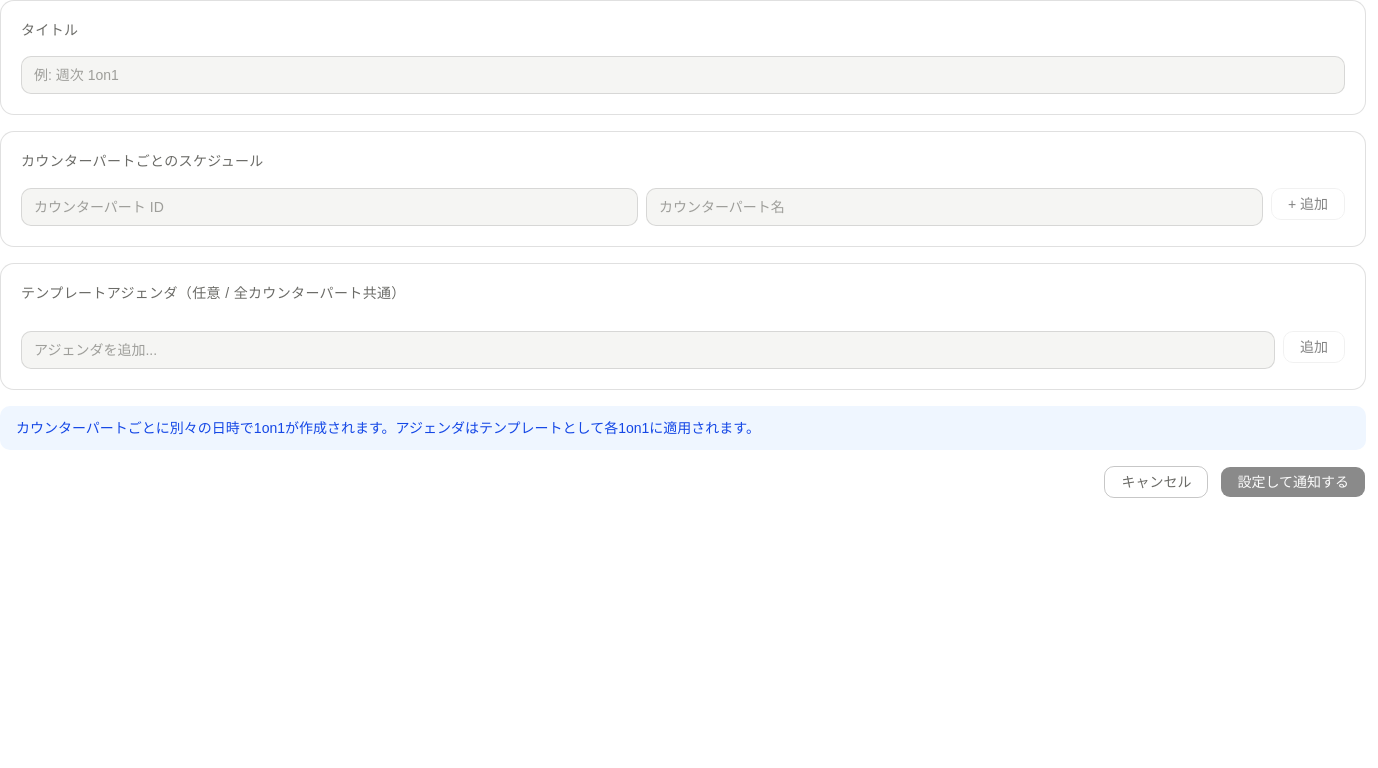
Test: ScheduleGroupForm › allows removing a counterpart
This screenshot has width=1378, height=768.
// Add a counterpart first
Type "user-123" into the field with placeholder "カウンターパート ID".
click(330, 206); type("user-123")  # box [21,188,638,226]
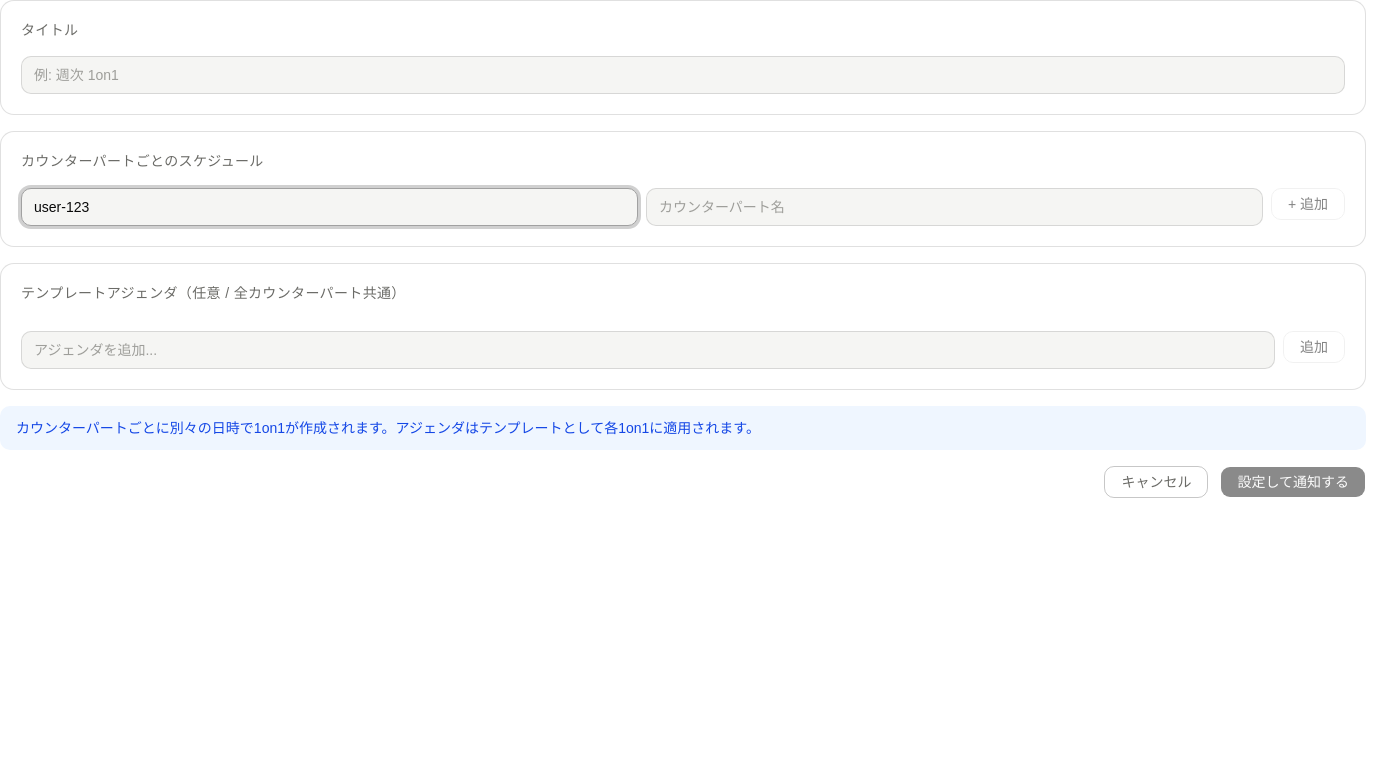
Type "田中 太郎" into the field with placeholder "カウンターパート名".
click(954, 206); type("田中 太郎")  # box [646,188,1263,226]
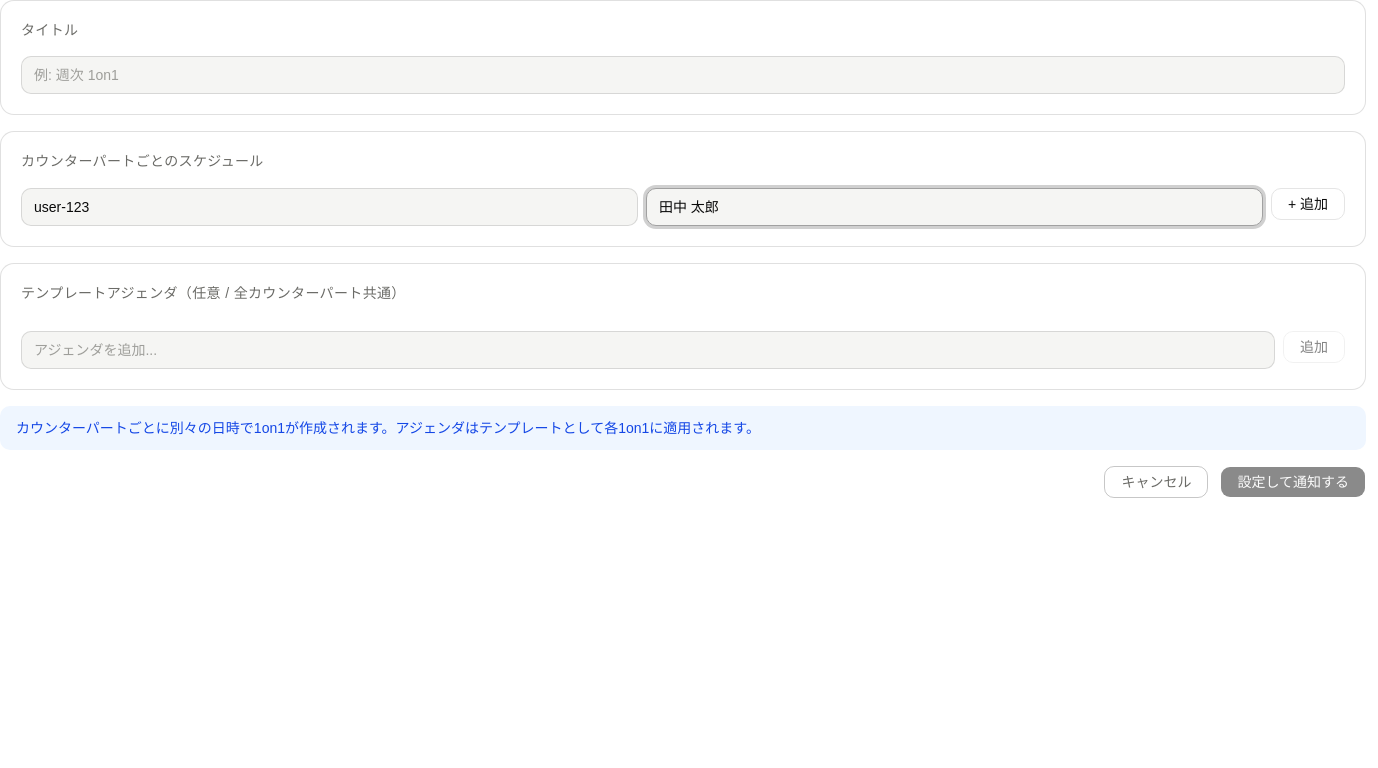
Click the button "+ 追加".
click(1308, 204)  # box [1271,188,1345,220]
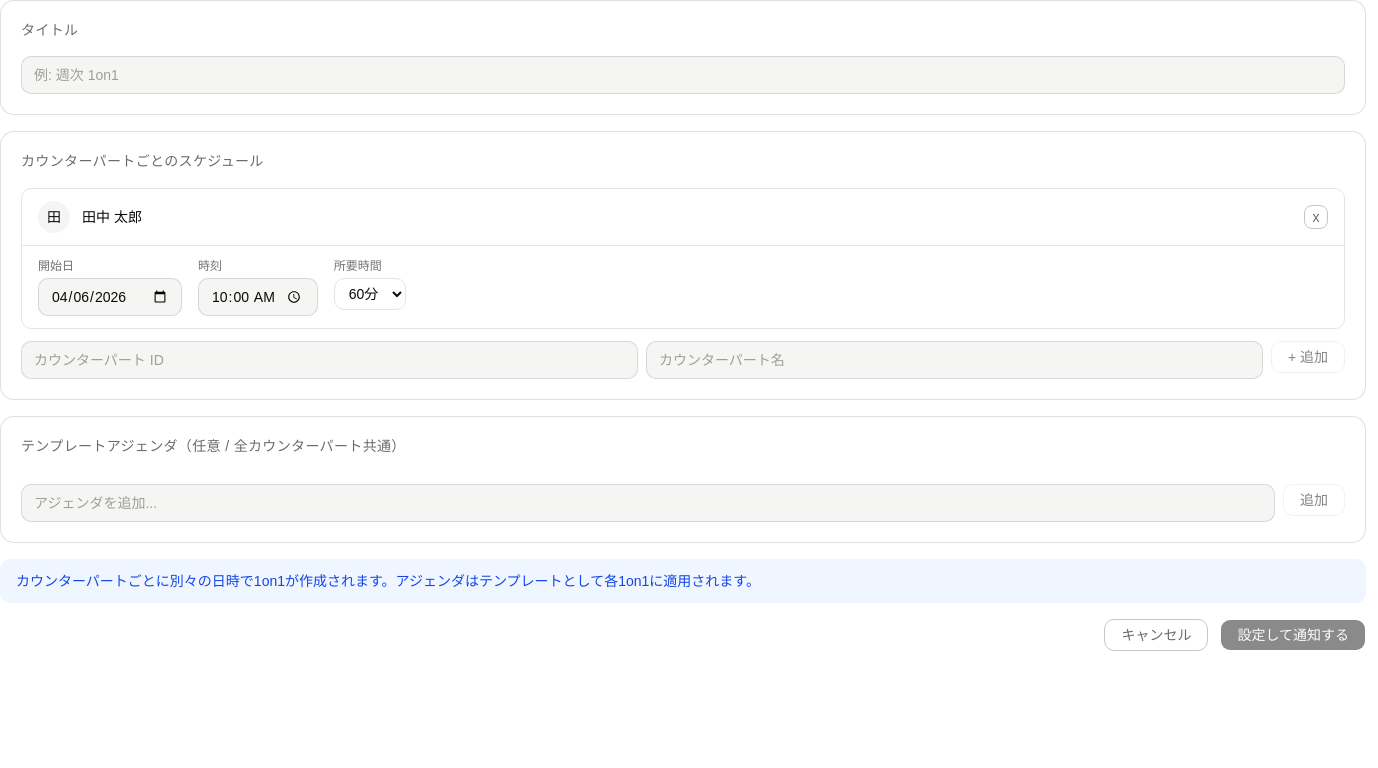
expect the text "田中 太郎" is shown: met, box [82,208,142,224]
// Remove the counterpart
Click the button named "田中 太郎 を削除".
click(1316, 216)  # box [1304,204,1328,228]
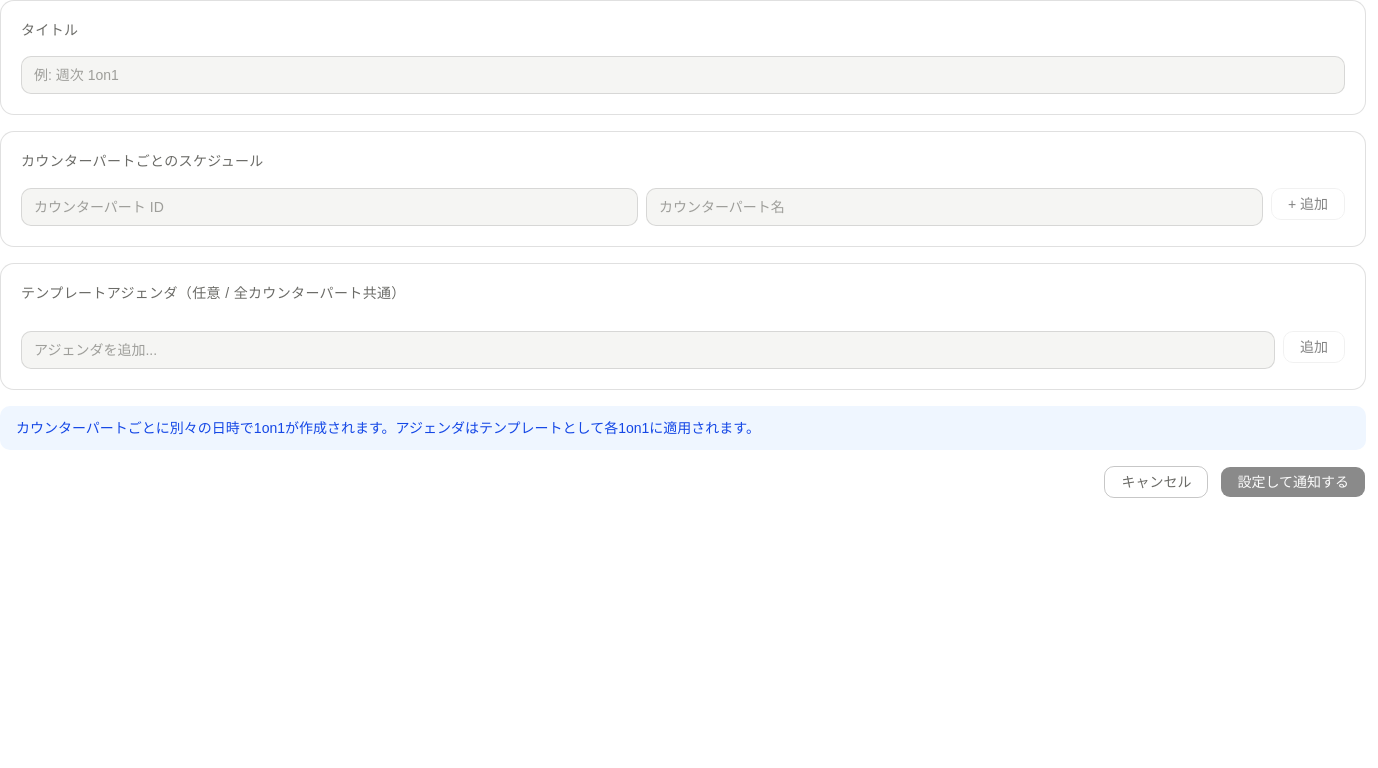
expect the text "田中 太郎" is gone: met
